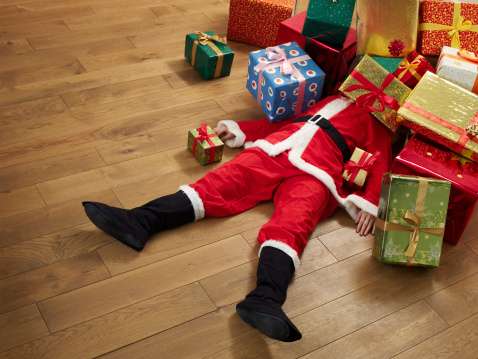deitado: (67, 12, 413, 348)
